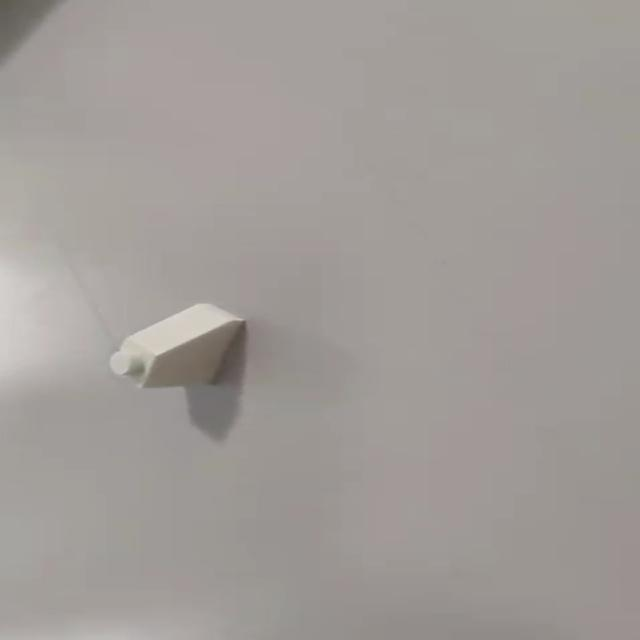P1x2x1: (98, 301, 244, 391)
